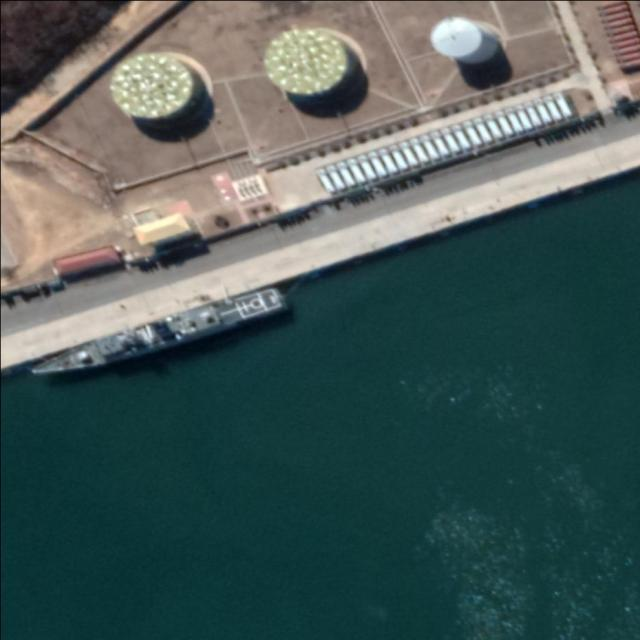Auxiliary Ships: (26, 286, 288, 383)
